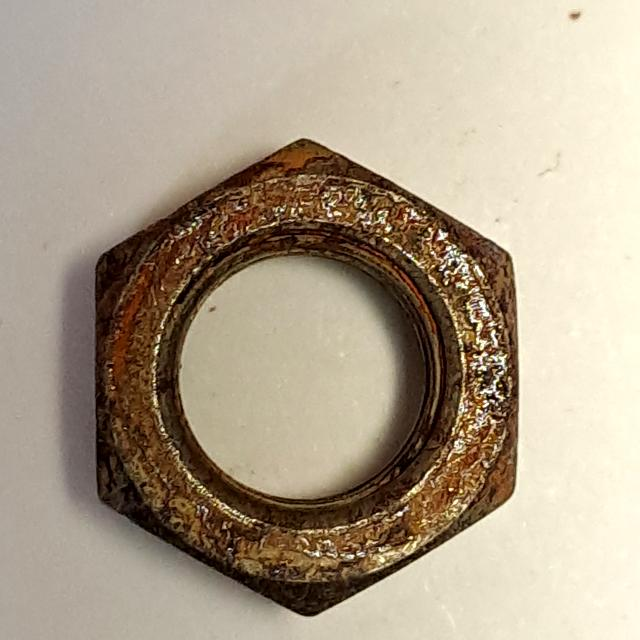Rust: (76, 124, 536, 636)
